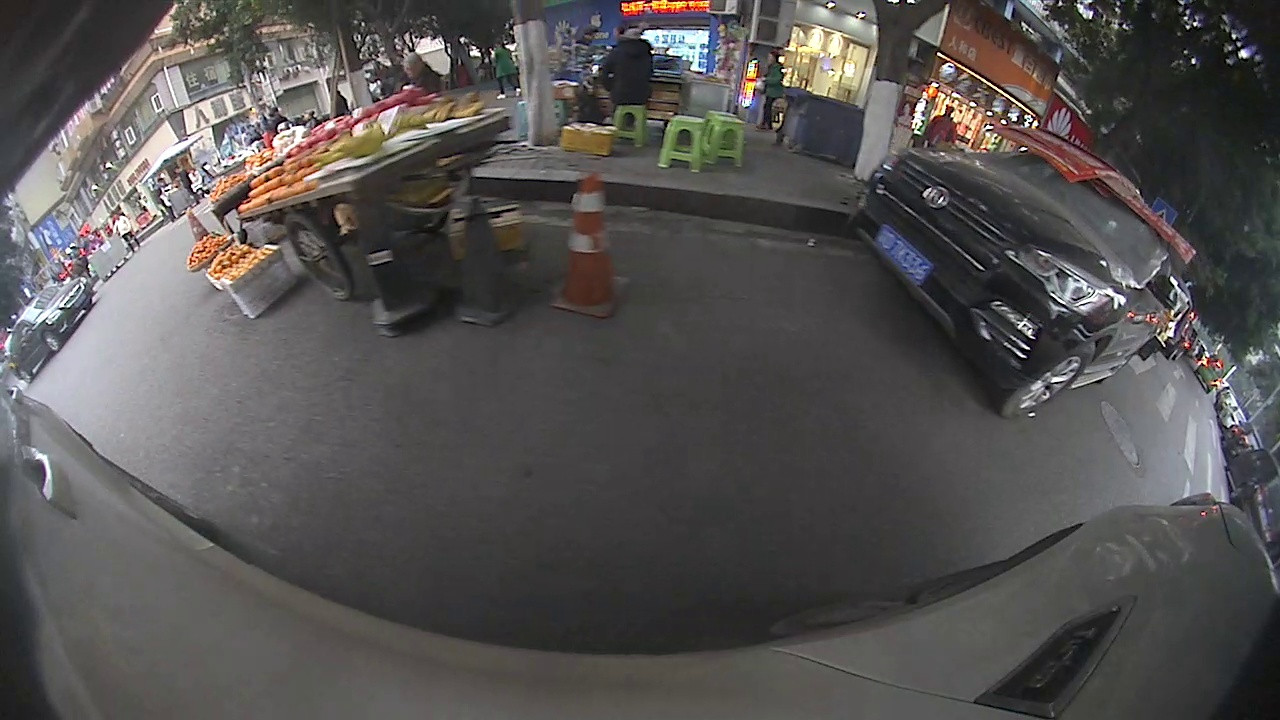car: (850, 147, 1171, 422), (8, 277, 95, 384)
front: (998, 340, 1106, 423), (43, 332, 59, 354)
person: (609, 26, 649, 105), (762, 53, 778, 132)
rear: (15, 367, 34, 384)
